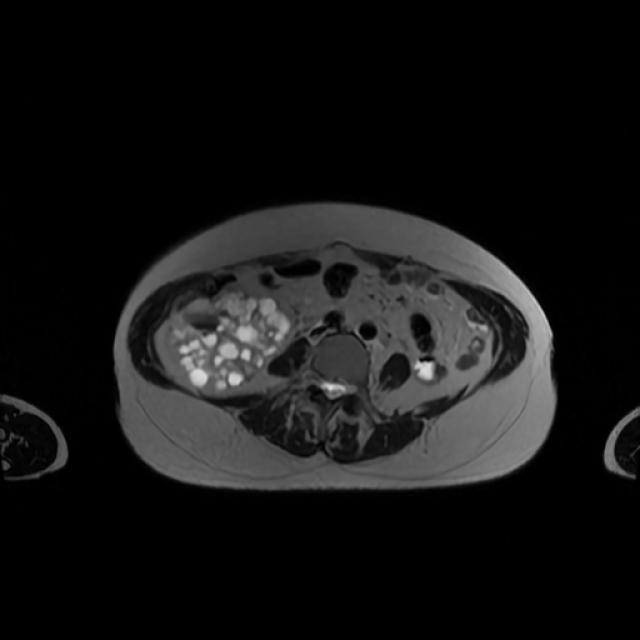sag: (167, 290, 293, 392)
